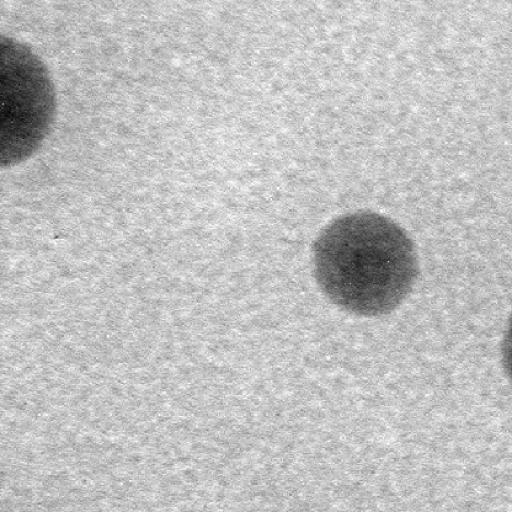Nanoparticles: (309, 205, 427, 320), (0, 26, 63, 171), (499, 318, 512, 374)
